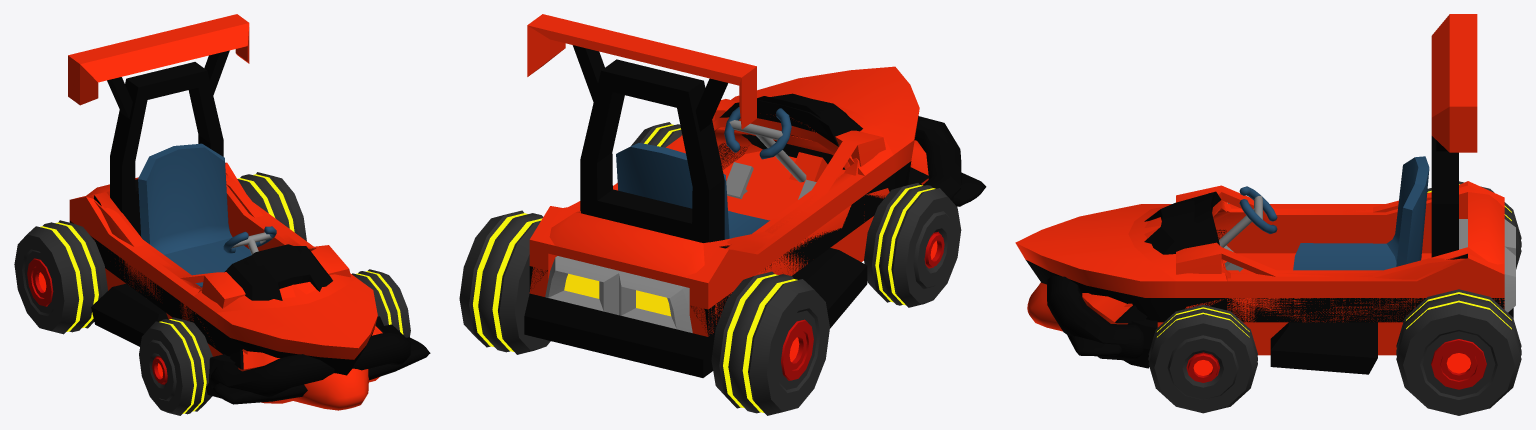
Rendered from Sci-Fi Goblin Car (All Parts).fbx.
The picture shows the model from 3 angles, left to right: view 1: azimuth 30°, elevation 25°; view 2: azimuth 150°, elevation 25°; view 3: azimuth 270°, elevation 25°; orthographic projection. The views are drawn at different scales.
Parts seen in each view (by area): view 1: Frontal Boat, Rear Spoiler, Seat, Frontal F1, Large Wheel BR, Frontal Go Kart, Large Wheel FR, Frontal Default, Bottom Chassis, Frontal Sport, Large Wheel BL, Large Wheel FL (+3 smaller); view 2: Rear Spoiler, Frontal Boat, Bottom Chassis, Large Wheel BR, Frontal Sport, Large Wheel BL, Large Wheel FR, Back Booster.001, Frontal F1, Frontal Default, Seat, Frontal Go Kart (+5 smaller); view 3: Frontal Boat, Large Wheel BL, Frontal F1, Rear Spoiler, Frontal Sport, Bottom Chassis, Frontal Default, Large Wheel FL, Seat, Frontal Go Kart, Fat Wheel FL, Fat Wheel BL (+2 smaller).
Part boxes in pixels (left/top/right/bottom): Frontal Boat: left=69, top=162, right=377, bottom=375; Rear Spoiler: left=68, top=14, right=249, bottom=236; Seat: left=138, top=143, right=251, bottom=287; Frontal F1: left=97, top=191, right=430, bottom=410; Large Wheel BR: left=14, top=220, right=107, bottom=334; Frontal Go Kart: left=93, top=173, right=410, bottom=403; Large Wheel FR: left=139, top=317, right=212, bottom=415; Frontal Default: left=90, top=173, right=383, bottom=398; Bottom Chassis: left=91, top=268, right=215, bottom=356; Frontal Sport: left=71, top=172, right=263, bottom=354; Large Wheel BL: left=237, top=172, right=306, bottom=241; Large Wheel FL: left=352, top=269, right=410, bottom=337; Rear Spoiler: left=527, top=14, right=756, bottom=242; Frontal Boat: left=529, top=66, right=919, bottom=336; Bottom Chassis: left=524, top=151, right=873, bottom=377; Large Wheel BR: left=711, top=271, right=829, bottom=415; Frontal Sport: left=531, top=127, right=912, bottom=335; Large Wheel BL: left=459, top=210, right=550, bottom=354; Large Wheel FR: left=864, top=183, right=961, bottom=307; Back Booster.001: left=545, top=256, right=692, bottom=332; Frontal F1: left=530, top=93, right=986, bottom=336; Frontal Default: left=529, top=99, right=921, bottom=336; Seat: left=616, top=143, right=769, bottom=239; Frontal Go Kart: left=720, top=96, right=961, bottom=248; Frontal Boat: left=1015, top=181, right=1504, bottom=322; Large Wheel BL: left=1396, top=289, right=1521, bottom=415; Frontal F1: left=1027, top=191, right=1467, bottom=356; Rear Spoiler: left=1431, top=14, right=1477, bottom=257; Frontal Sport: left=1124, top=192, right=1504, bottom=322; Bottom Chassis: left=1224, top=253, right=1513, bottom=374; Frontal Default: left=1123, top=185, right=1504, bottom=368; Large Wheel FL: left=1148, top=304, right=1257, bottom=413; Seat: left=1293, top=156, right=1429, bottom=270; Frontal Go Kart: left=1046, top=193, right=1467, bottom=360; Fat Wheel FL: left=1167, top=335, right=1238, bottom=399; Fat Wheel BL: left=1422, top=331, right=1495, bottom=396.
Bounding box in the file's own units: 1.72 × 1.78 × 2.77.
